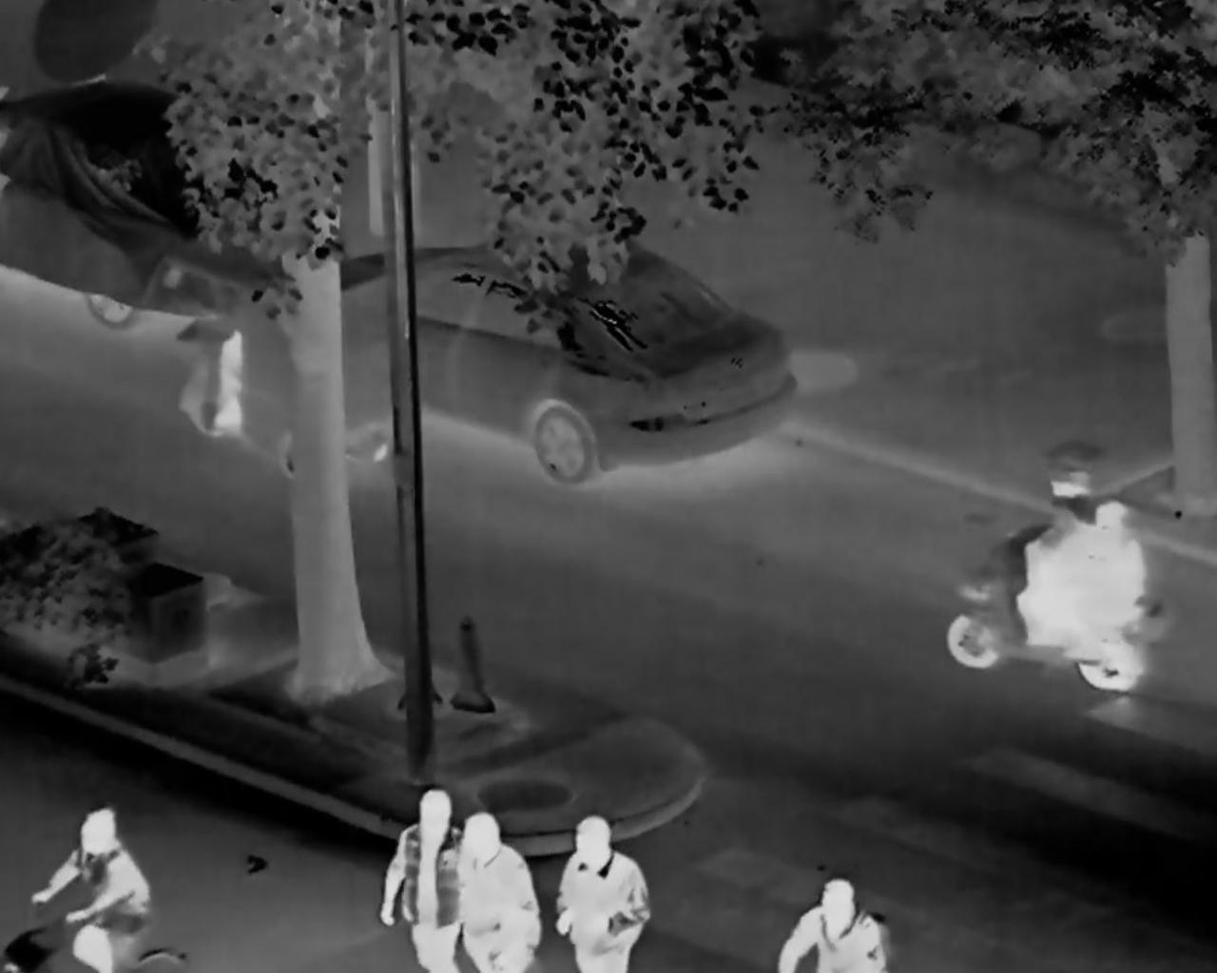person: (28, 807, 152, 973), (373, 785, 475, 971), (1014, 464, 1106, 650), (550, 815, 649, 973), (451, 813, 538, 972), (1078, 496, 1149, 661), (775, 878, 883, 973), (203, 315, 242, 434)
